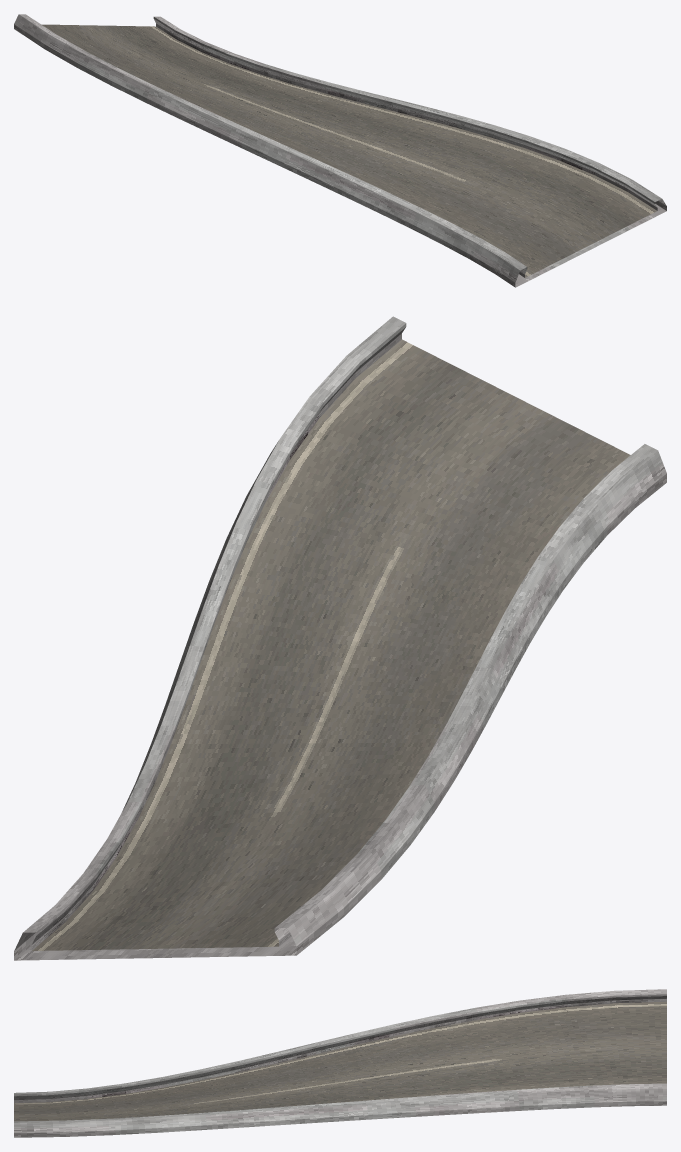
The model's file is road-Chicane-HalfBankedLeft-HalfBankedRight-Even-Left1-Size4.glb.
3 views of the same model, one above another, from view 1: azimuth 30°, elevation 25°; view 2: azimuth 150°, elevation 25°; view 3: azimuth 270°, elevation 25° (orthographic). The views are drawn at different scales.
Parts seen in each view (by area): view 1: road-Chicane-HalfBankedLeft-HalfBankedRight-Even-Left1-Size4; view 2: road-Chicane-HalfBankedLeft-HalfBankedRight-Even-Left1-Size4; view 3: road-Chicane-HalfBankedLeft-HalfBankedRight-Even-Left1-Size4.
Boxes of the visible parts, bbox=[...] form: road-Chicane-HalfBankedLeft-HalfBankedRight-Even-Left1-Size4: bbox=[14, 14, 666, 287]; road-Chicane-HalfBankedLeft-HalfBankedRight-Even-Left1-Size4: bbox=[14, 316, 666, 960]; road-Chicane-HalfBankedLeft-HalfBankedRight-Even-Left1-Size4: bbox=[14, 989, 666, 1137].
Size of the model in its own units: 2 by 0.3359 by 4.
Materials: 2 (2 with a texture image).
